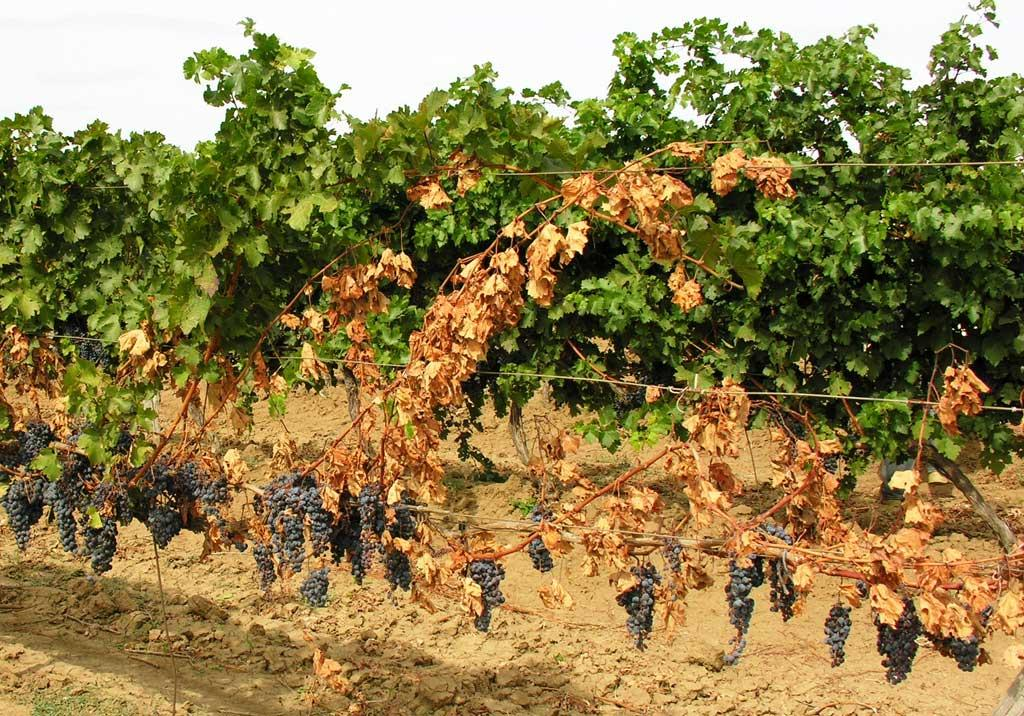Verticillium wilt: (347, 246, 526, 502), (397, 249, 525, 423), (844, 528, 997, 637), (666, 378, 749, 526), (604, 171, 693, 260), (772, 441, 847, 543), (579, 487, 661, 575), (527, 221, 589, 306), (745, 155, 795, 198), (321, 446, 364, 492), (711, 149, 746, 195)
